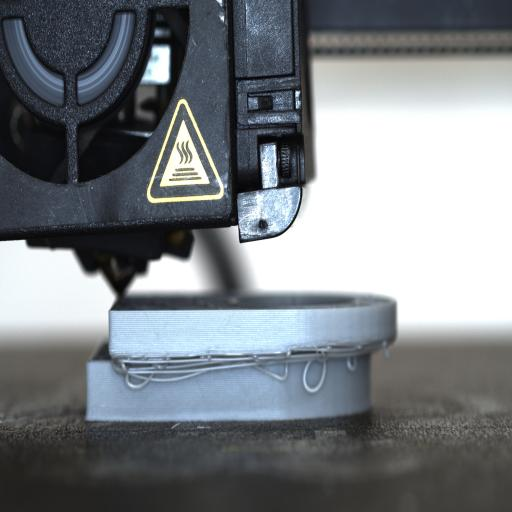layer_shift: (81, 328, 401, 362)
